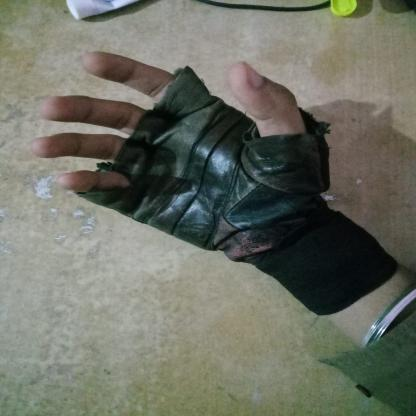gloved_hand: (57, 55, 387, 312)
